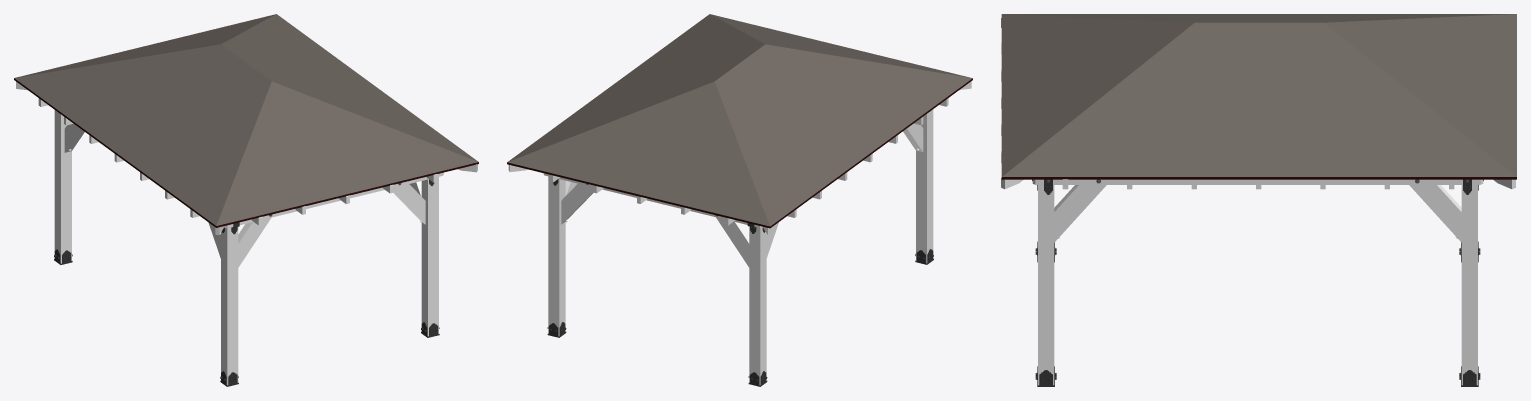
The model's file is saratoga-12x16-flush.obj.
3 renders of one model, left to right at view 1: azimuth 30°, elevation 25°; view 2: azimuth 150°, elevation 25°; view 3: azimuth 270°, elevation 25°, orthographic. The views are drawn at different scales.
Visible parts, largest first — view 1: Mesh230 shingles roof Group1 Model, Mesh181 Group74 Component_92_4 Group1 Model, Mesh83 Group46 Component_92_2 Group1 Model, Mesh132 Group60 Component_92_3 Group1 Model, Mesh231 roof Group1 Model, Mesh123 Component_91_3 Component_92_2 Group1 Model, Mesh221 Component_91_7 Component_92_4 Group1 Model, Mesh79 Component_135_1 Group1 Model, Mesh176 Component_91_6 Component_92_3 Group1 Model; view 2: Mesh230 shingles roof Group1 Model, Mesh132 Group60 Component_92_3 Group1 Model, Mesh1 Group3 Component_92_1 Group2 Group1 Model, Mesh181 Group74 Component_92_4 Group1 Model, Mesh231 roof Group1 Model, Mesh172 Component_91_5 Component_92_3 Group1 Model, Mesh41 Component_91_1 Component_92_1 Group2 Group1 Model, Mesh81 Component_135_2 Group1 Model, Mesh225 Component_91_8 Component_92_4 Group1 Model; view 3: Mesh230 shingles roof Group1 Model, Mesh1 Group3 Component_92_1 Group2 Group1 Model, Mesh83 Group46 Component_92_2 Group1 Model, Mesh82 Component_134_2 Group1 Model, Mesh231 roof Group1 Model, Mesh45 Component_91_2 Component_92_1 Group2 Group1 Model, Mesh127 Component_91_4 Component_92_2 Group1 Model.
Boxes of the visible parts, x1,y1,x2,y2 form: Mesh230 shingles roof Group1 Model: (14, 14, 478, 225); Mesh181 Group74 Component_92_4 Group1 Model: (221, 227, 238, 385); Mesh83 Group46 Component_92_2 Group1 Model: (421, 177, 438, 336); Mesh132 Group60 Component_92_3 Group1 Model: (54, 110, 71, 263); Mesh231 roof Group1 Model: (14, 78, 478, 227); Mesh123 Component_91_3 Component_92_2 Group1 Model: (393, 184, 425, 224); Mesh221 Component_91_7 Component_92_4 Group1 Model: (238, 217, 271, 267); Mesh79 Component_135_1 Group1 Model: (224, 172, 443, 228); Mesh176 Component_91_6 Component_92_3 Group1 Model: (64, 123, 84, 152); Mesh230 shingles roof Group1 Model: (507, 14, 972, 226); Mesh132 Group60 Component_92_3 Group1 Model: (749, 226, 766, 385); Mesh1 Group3 Component_92_1 Group2 Group1 Model: (548, 176, 565, 336); Mesh181 Group74 Component_92_4 Group1 Model: (916, 109, 933, 263); Mesh231 roof Group1 Model: (507, 78, 972, 228); Mesh172 Component_91_5 Component_92_3 Group1 Model: (716, 217, 749, 267); Mesh41 Component_91_1 Component_92_1 Group2 Group1 Model: (561, 183, 593, 224); Mesh81 Component_135_2 Group1 Model: (543, 173, 762, 227); Mesh225 Component_91_8 Component_92_4 Group1 Model: (903, 123, 923, 152); Mesh230 shingles roof Group1 Model: (1001, 14, 1516, 176); Mesh1 Group3 Component_92_1 Group2 Group1 Model: (1461, 185, 1477, 385); Mesh83 Group46 Component_92_2 Group1 Model: (1038, 185, 1054, 385); Mesh82 Component_134_2 Group1 Model: (1043, 179, 1472, 184); Mesh231 roof Group1 Model: (1001, 177, 1516, 179); Mesh45 Component_91_2 Component_92_1 Group2 Group1 Model: (1409, 185, 1461, 242); Mesh127 Component_91_4 Component_92_2 Group1 Model: (1054, 185, 1106, 242).
Bounding box in the file's own units: 144 × 123 × 192.
